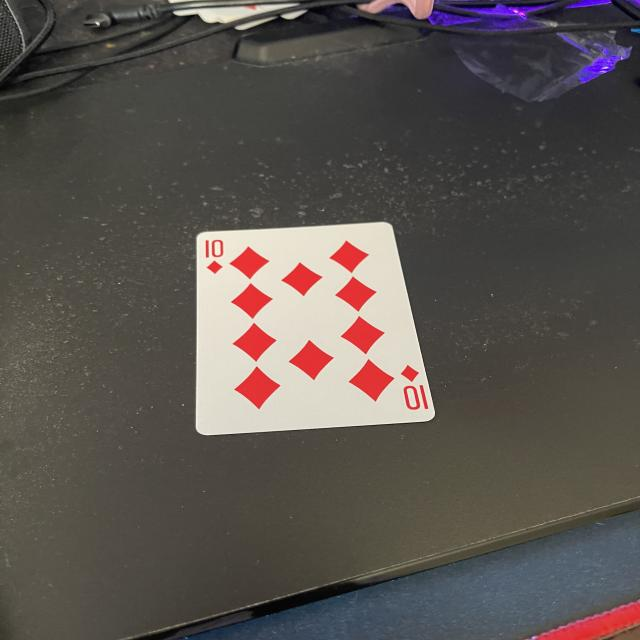10 of diamonds: (195, 221, 437, 435)
